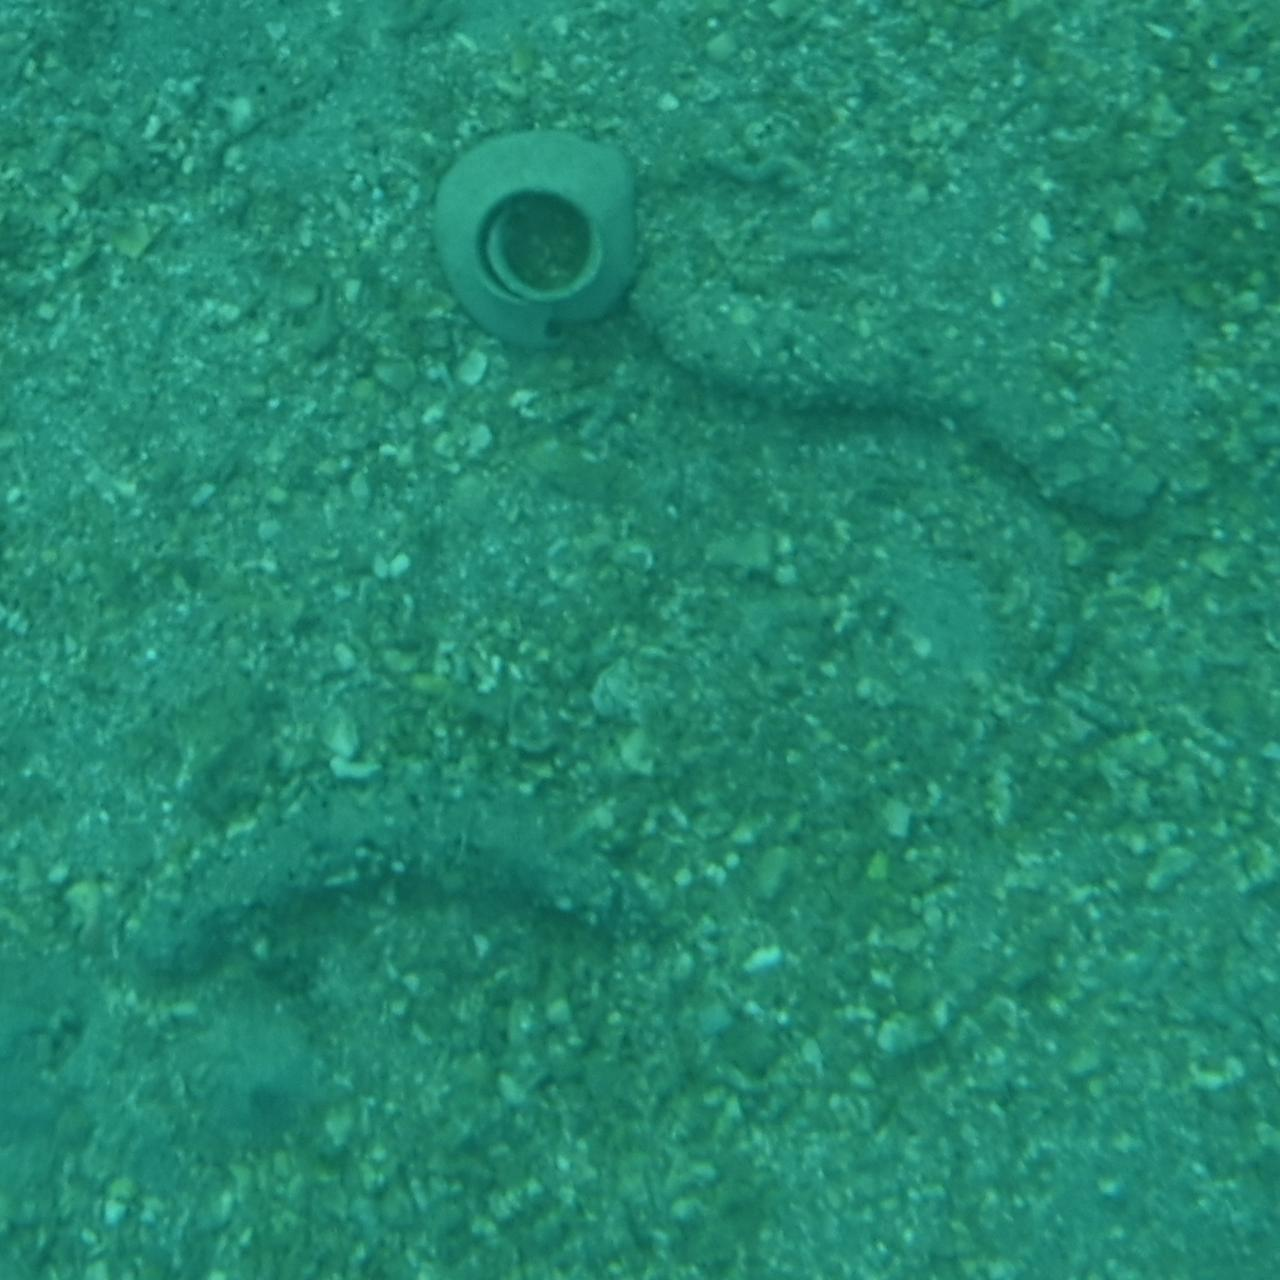Holothuria tubulosa: (620, 241, 1177, 527), (88, 806, 678, 986)
